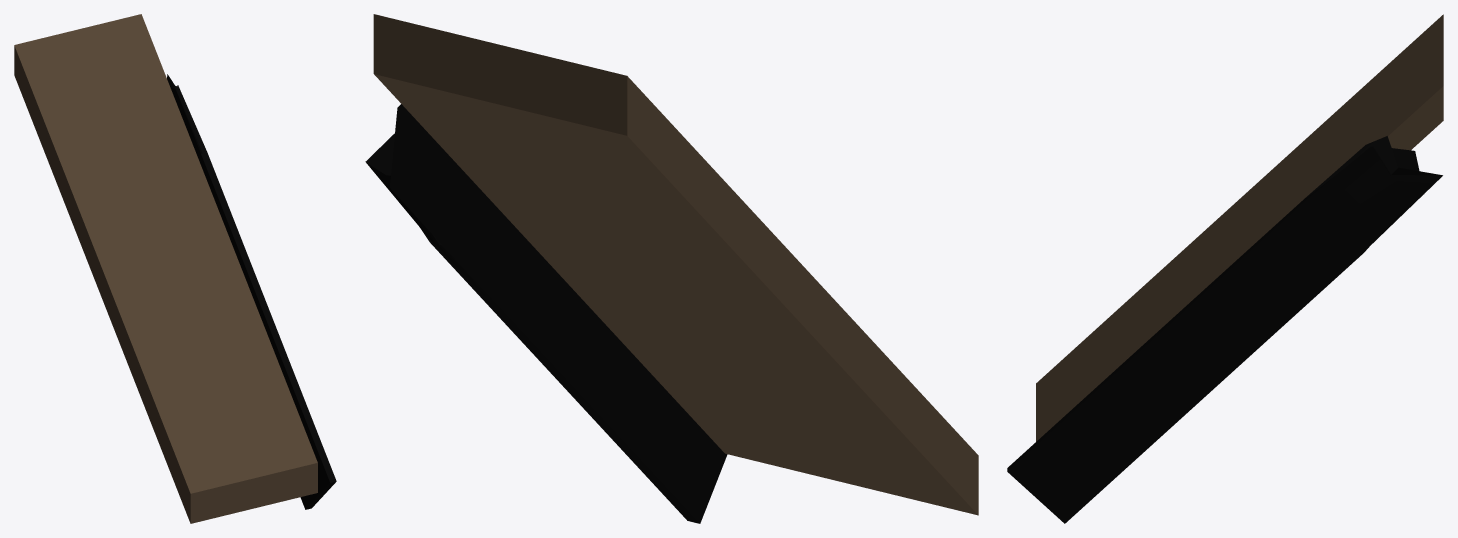
The model's file is dach_ortgang_r_kaputt.glb.
3 renders of one model, left to right at view 1: azimuth 30°, elevation 25°; view 2: azimuth 150°, elevation 25°; view 3: azimuth 270°, elevation 25°, orthographic. The views are drawn at different scales.
Parts seen in each view (by area): view 1: dach_ortgang_r_kaputt; view 2: dach_ortgang_r_kaputt; view 3: dach_ortgang_r_kaputt.
Part boxes in pixels (left/top/right/bottom): dach_ortgang_r_kaputt: left=14, top=14, right=336, bottom=523; dach_ortgang_r_kaputt: left=365, top=14, right=978, bottom=523; dach_ortgang_r_kaputt: left=1007, top=14, right=1443, bottom=523.
Bounding box in the file's own units: 0.525 × 1.41 × 1.28.
